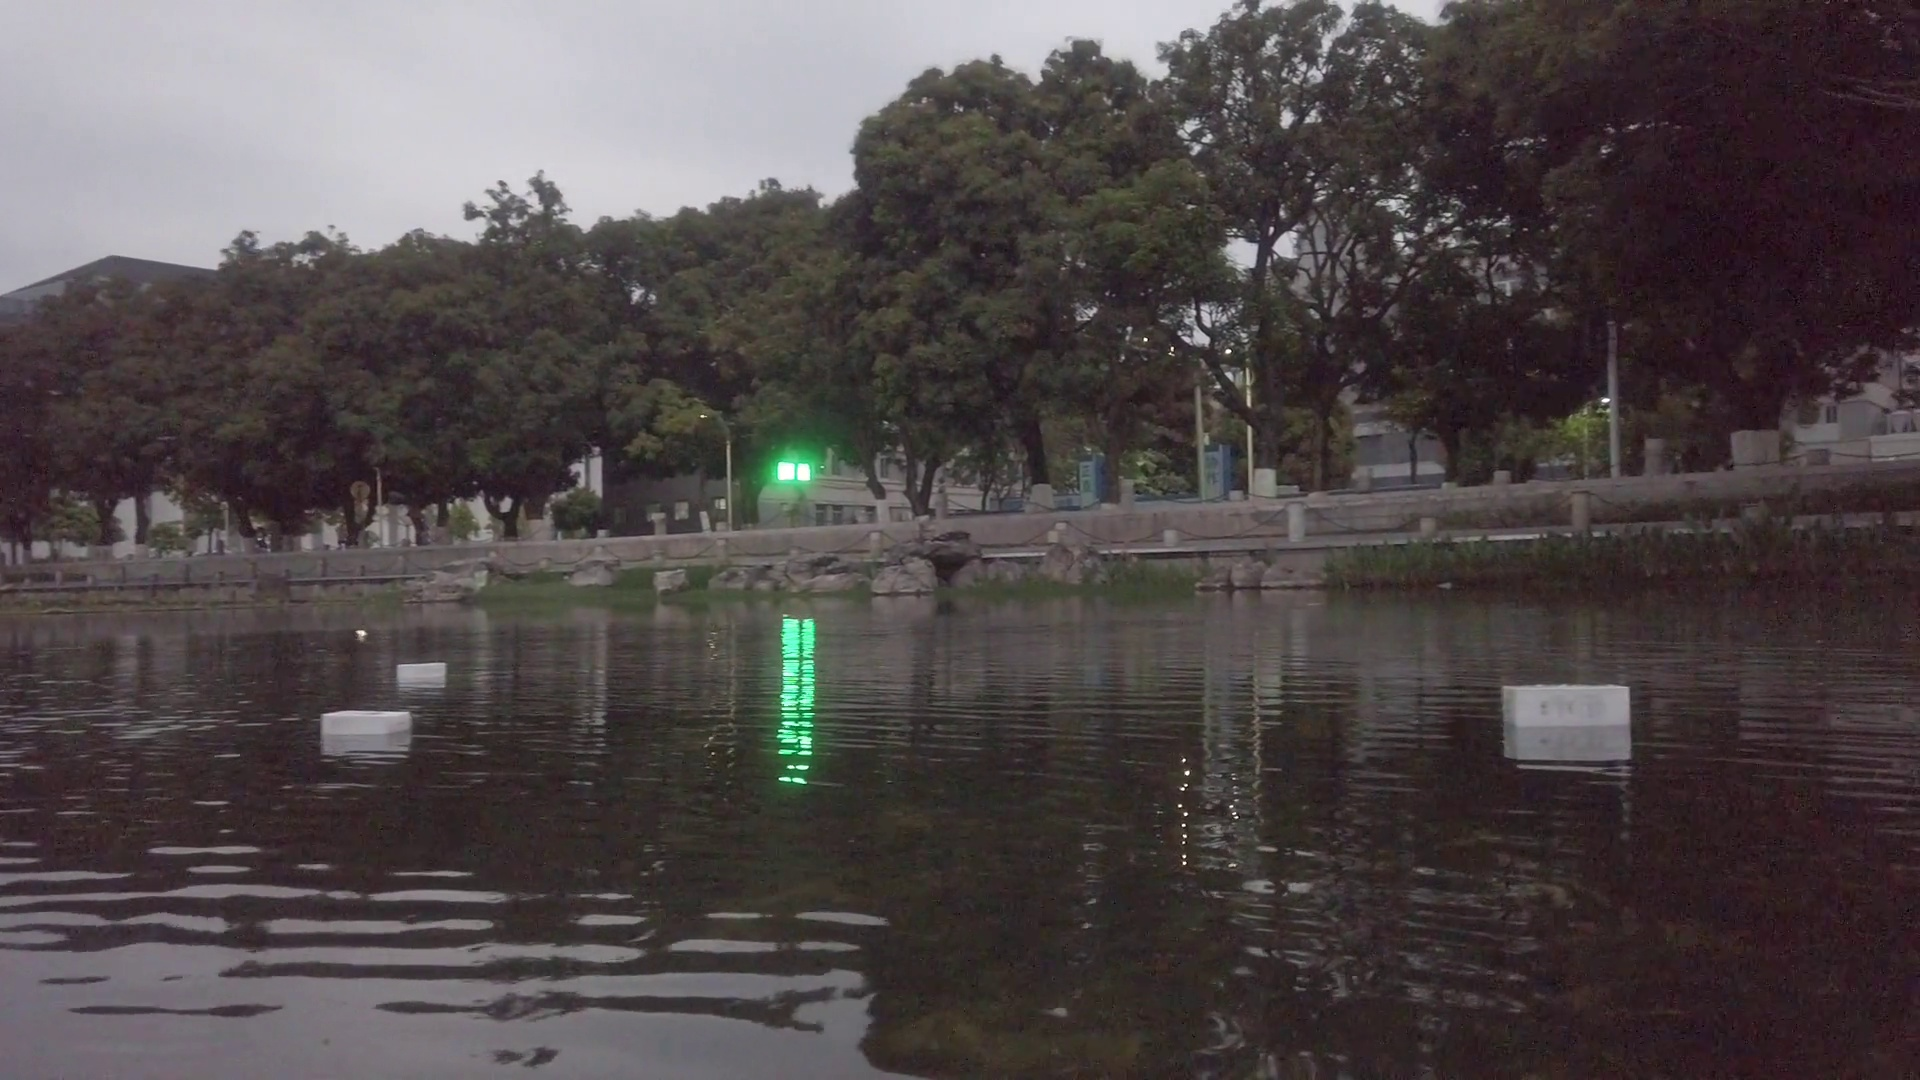carton: (1505, 682, 1633, 732), (320, 708, 411, 736), (398, 663, 448, 680)
